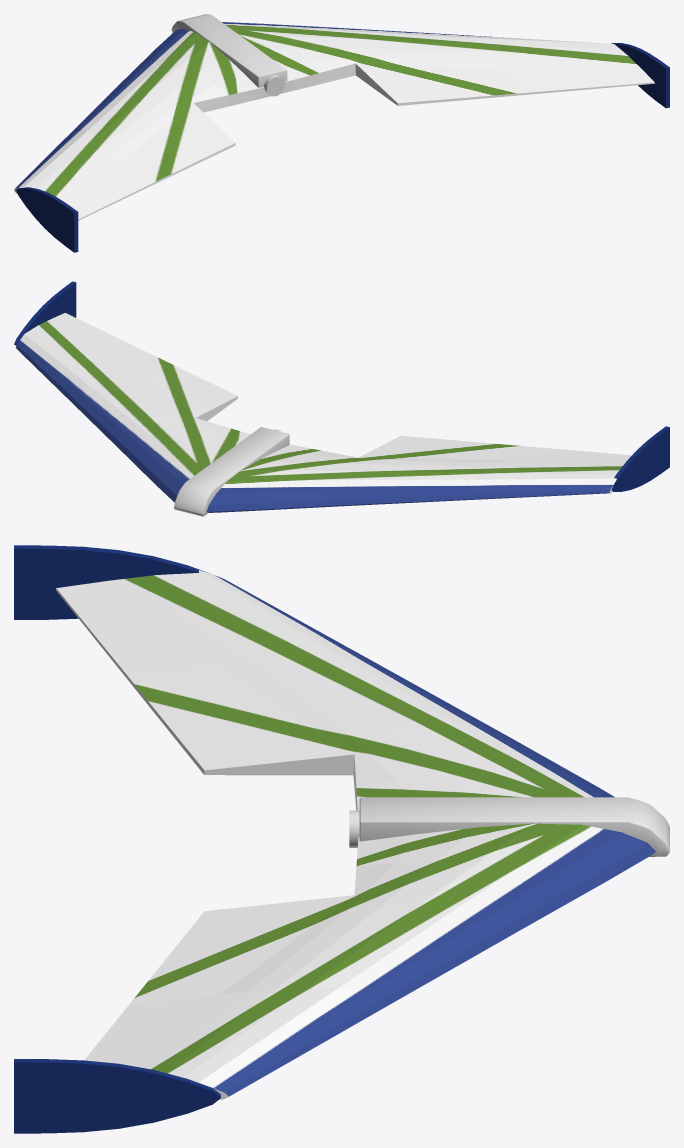
Rendered from Wing.glb.
3 renders of one model, top to bottom at view 1: azimuth 30°, elevation 25°; view 2: azimuth 150°, elevation 25°; view 3: azimuth 270°, elevation 25°, orthographic. The views are drawn at different scales.
Visible parts, largest first — view 1: Wing, WingTips, CenterPod; view 2: Wing, CenterPod, WingTips; view 3: Wing, WingTips, CenterPod.
Boxes of the visible parts, x1,y1,x2,y2 form: Wing: (14,22,654,220); WingTips: (16,43,669,252); CenterPod: (171,14,287,87); Wing: (16,313,631,512); CenterPod: (174,427,289,516); WingTips: (14,281,669,491); Wing: (56,570,655,1099); WingTips: (14,545,220,1133); CenterPod: (359,797,669,856).
Bounding box in the file's own units: 0.7555 × 0.0485 × 0.4051.
3 materials, 1 textured.
